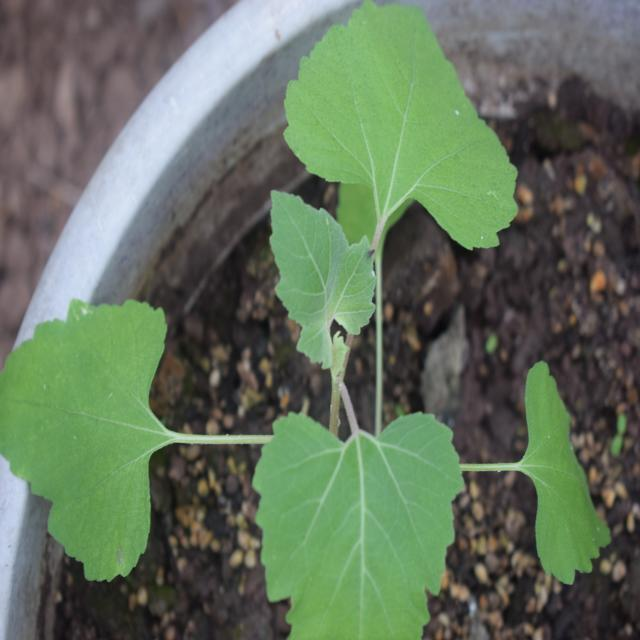cocklebur: (9, 34, 615, 610)
